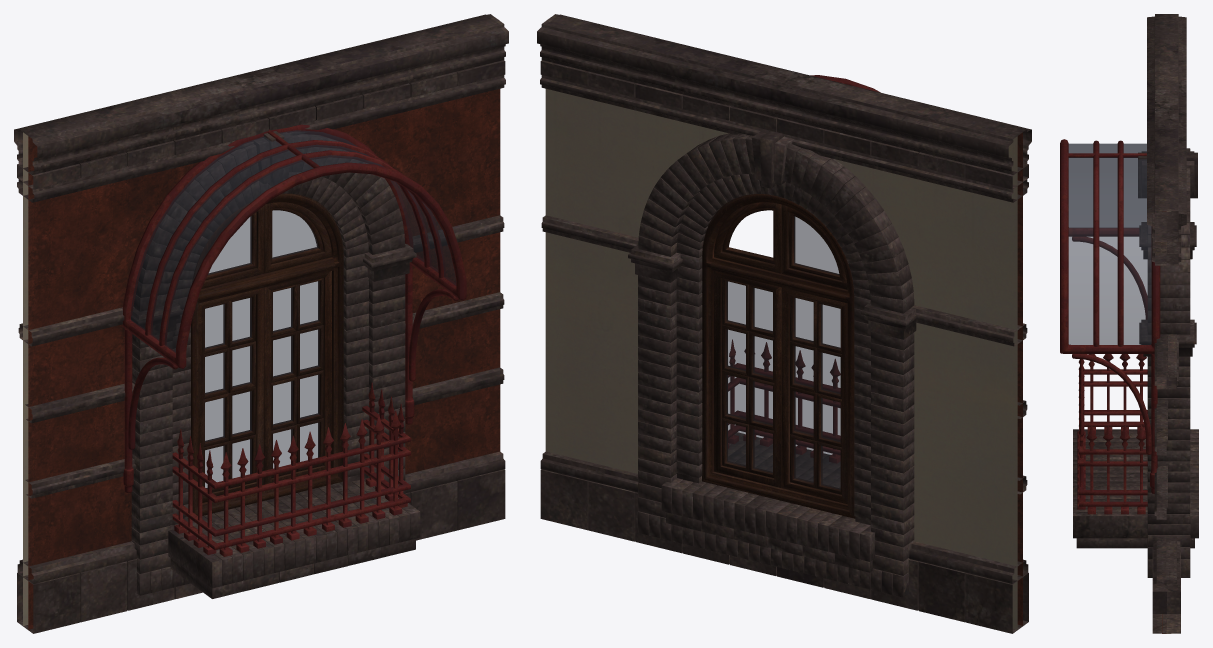
The model's file is SK2 WINDOW 2 BALCONY.fbx.
3 views of the same model, side by side, from view 1: azimuth 30°, elevation 25°; view 2: azimuth 150°, elevation 25°; view 3: azimuth 270°, elevation 25° (orthographic). The views are drawn at different scales.
Visible parts, largest first — view 1: SK2 WINDOW 2 BALCONY.006; view 2: SK2 WINDOW 2 BALCONY.006; view 3: SK2 WINDOW 2 BALCONY.006.
Boxes of the visible parts, box(x1,y1,x2,y2) form: SK2 WINDOW 2 BALCONY.006: box(14, 14, 508, 633); SK2 WINDOW 2 BALCONY.006: box(537, 14, 1031, 633); SK2 WINDOW 2 BALCONY.006: box(1060, 14, 1198, 633).
Size of the model in its own units: 400 by 400 by 119.
